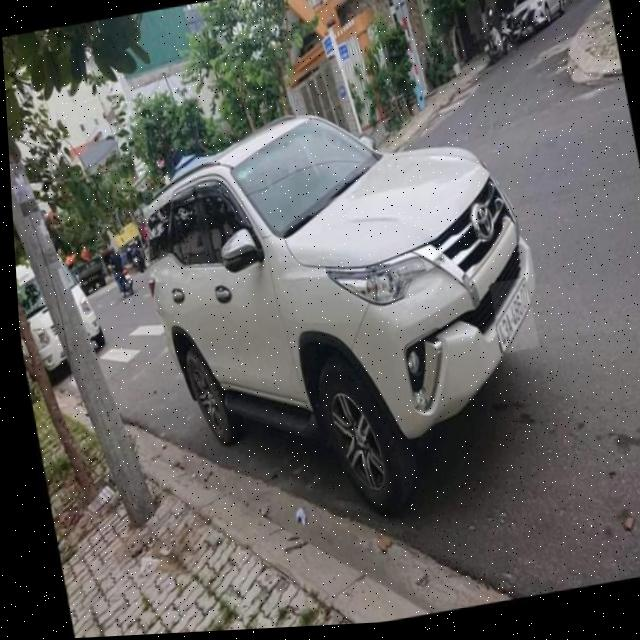car: (125, 99, 578, 540)
plate: (488, 272, 544, 361)
